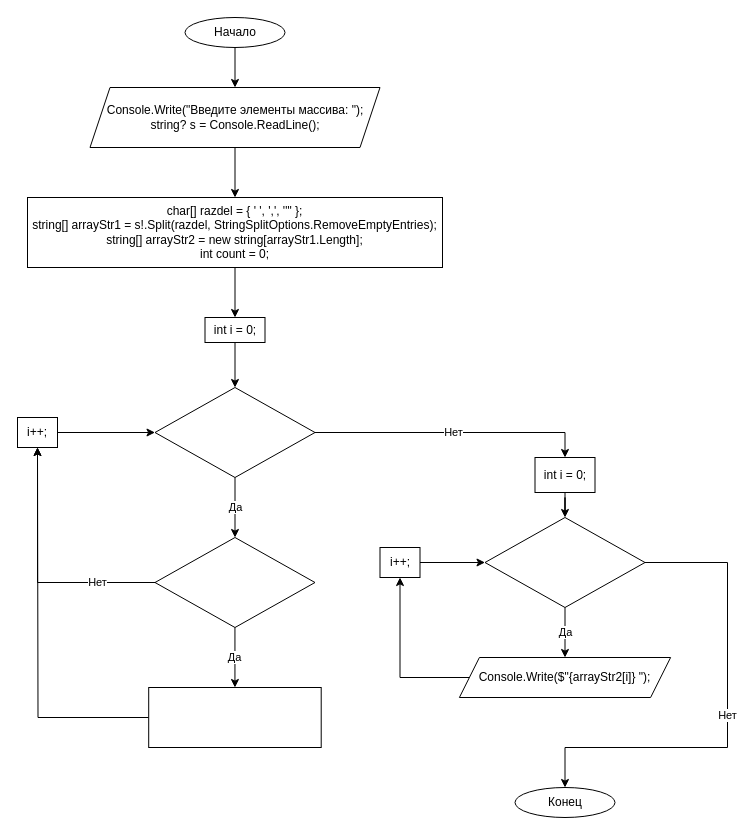
Some shapes in this 754 by 835 pixel diagram are drawn without their labels. The box of each missing label's shape, as (x1, y1, x2, y2) in pixels:
arrayStr1[i].Length <= 3: (154, 536, 315, 628)
arrayStr2 [count] = arrayStr1[i]; count++;: (148, 686, 321, 748)
i < arrayStr1.Length;: (154, 386, 315, 478)
i < arrayStr2.Length;: (484, 516, 645, 608)
